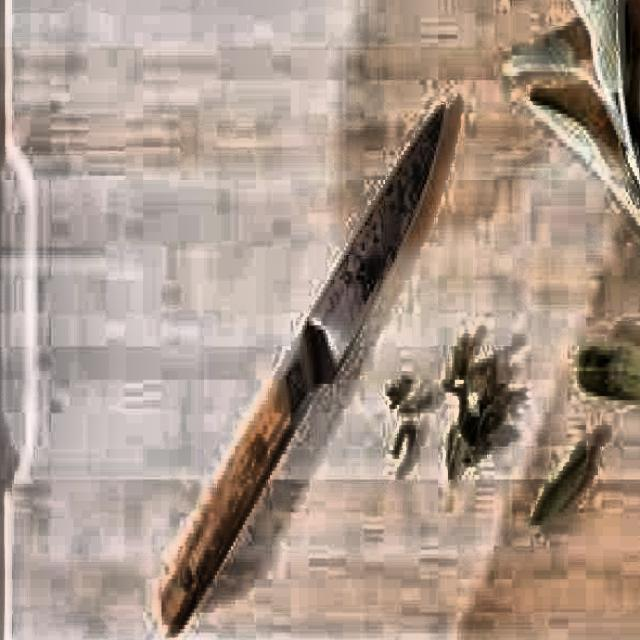knife: (152, 81, 453, 640)
